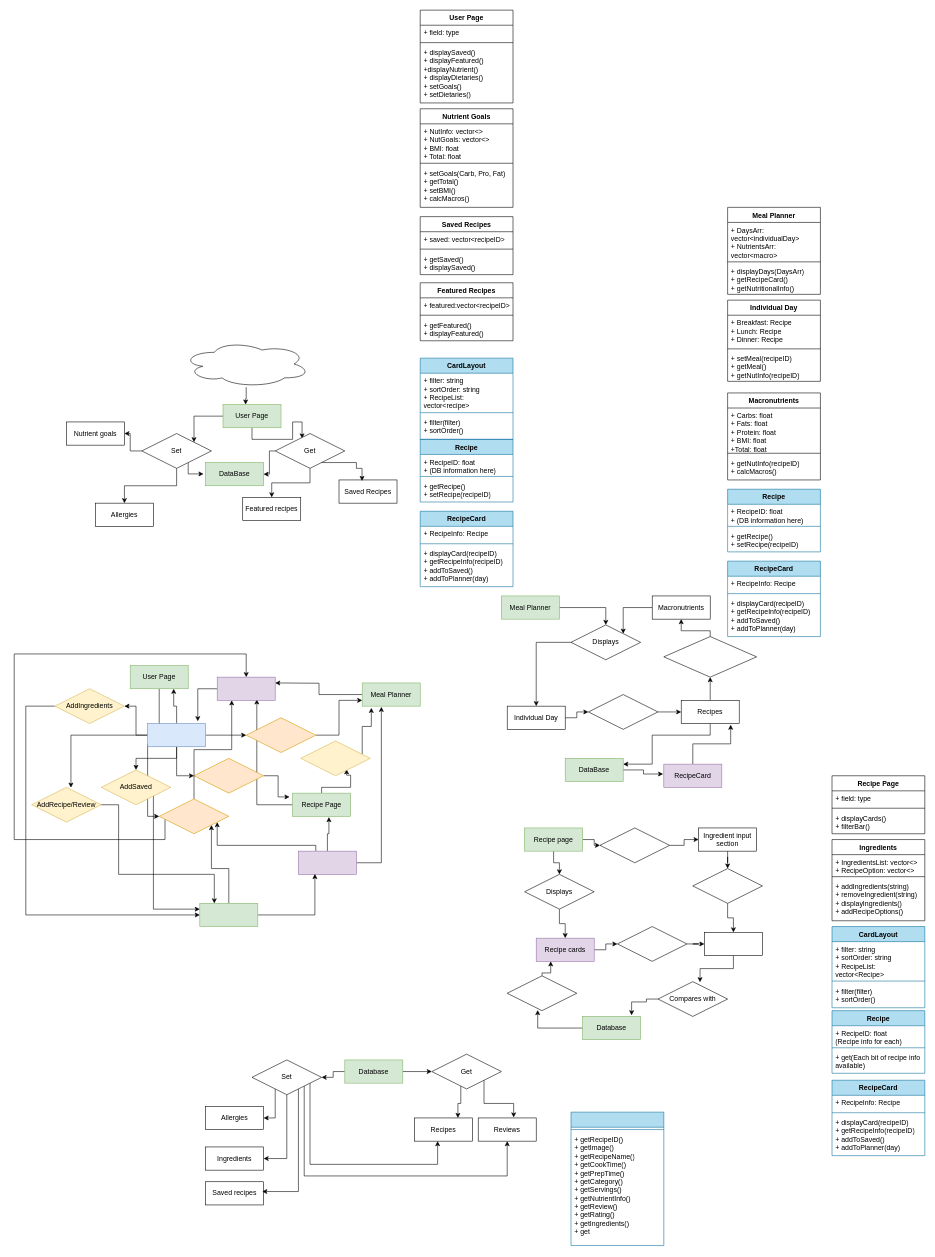
Some shapes in this 935 by 1257 pixel diagram are drawn without their labels. The box of each missing label's shape, as (x1, y1, x2, y2) in pixels:
AddToPlan: (300, 740, 370, 776)
Checks: (617, 926, 687, 961)
Data Base: (199, 903, 258, 927)
Database Interface: (570, 1112, 664, 1246)
Database security and password encryption: (182, 340, 310, 387)
Display: (217, 677, 275, 700)
Display and collate nutritional info: (663, 636, 757, 677)
Edits: (692, 868, 762, 903)
GetPlan: (246, 717, 316, 753)
GetRecipes: (193, 758, 264, 793)
GetSaved: (159, 798, 229, 834)
Has: (599, 827, 670, 863)
Includes: (588, 694, 658, 729)
Ingredient lists: (704, 932, 762, 956)
Recipe Card: (298, 851, 356, 874)
Returns recipe list: (507, 975, 577, 1011)
User: (147, 723, 206, 747)
